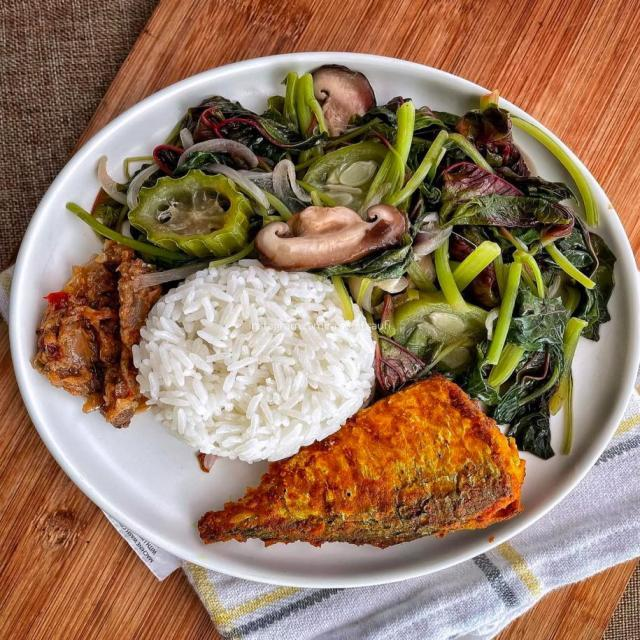Fish: (199, 377, 525, 551)
Plate: (9, 55, 639, 580)
Rice: (131, 264, 378, 463)
Vegetables: (64, 64, 616, 462)
